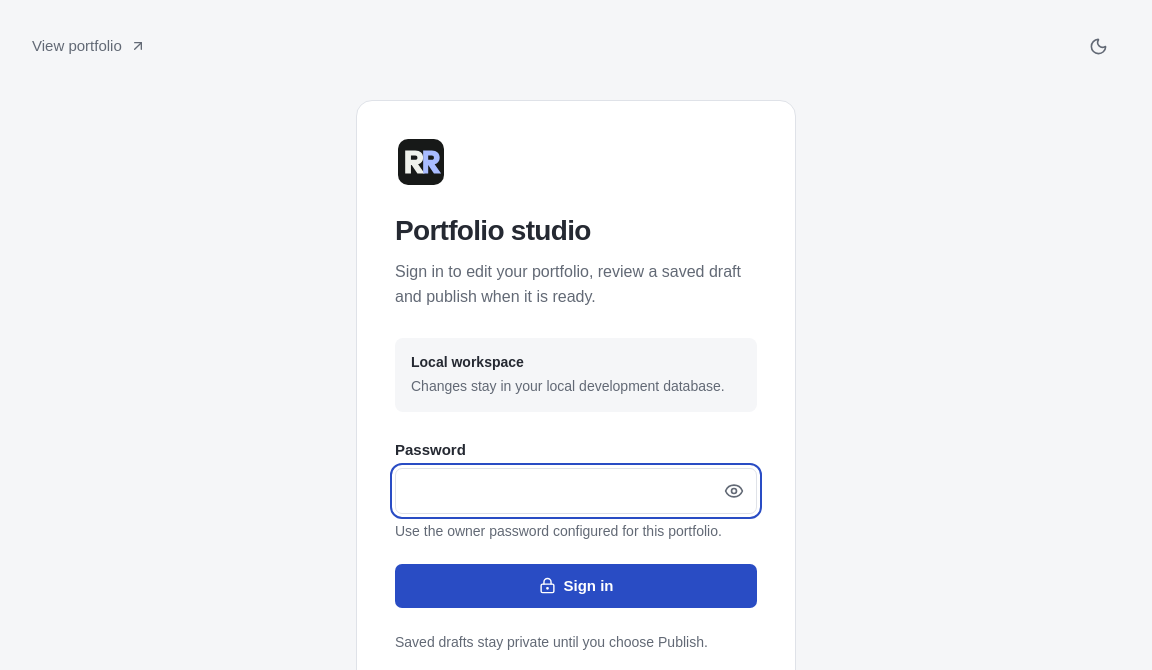
Test: server authenticated workspace › keeps an incorrect password on the sign-in form and opens the workspace only after server acceptance
Click the button named "Show password" at (734, 491), box [714,471,754,511]
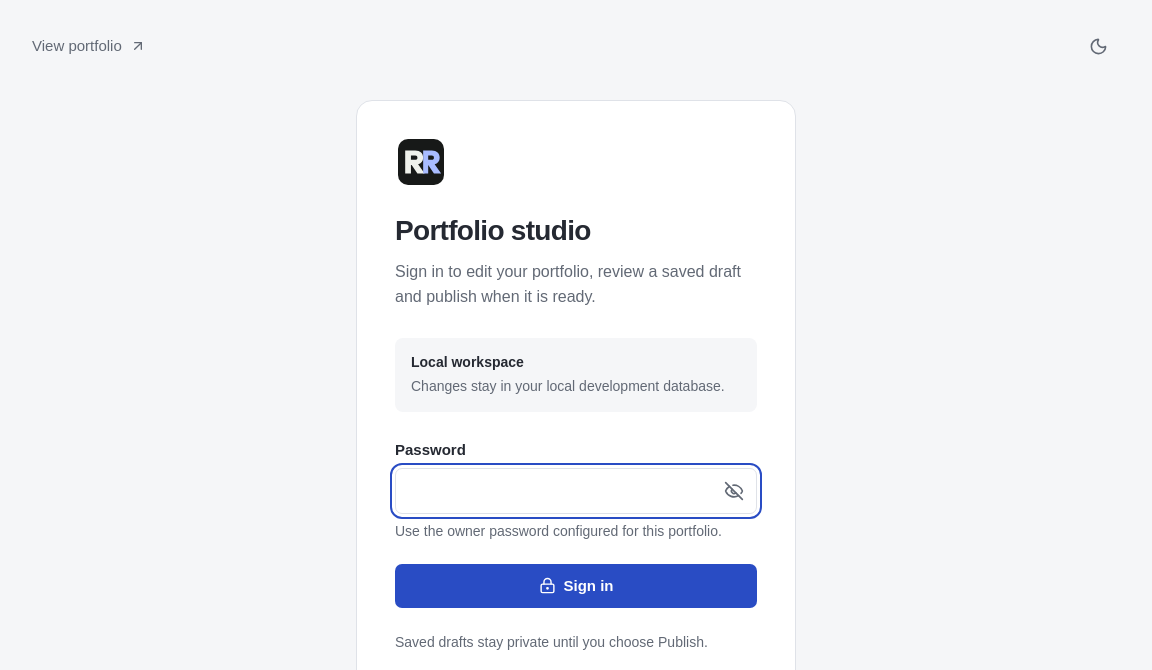
Type "any-eight-character-phrase" into the field labelled "Password" at (576, 491), box [395,468,757,514]
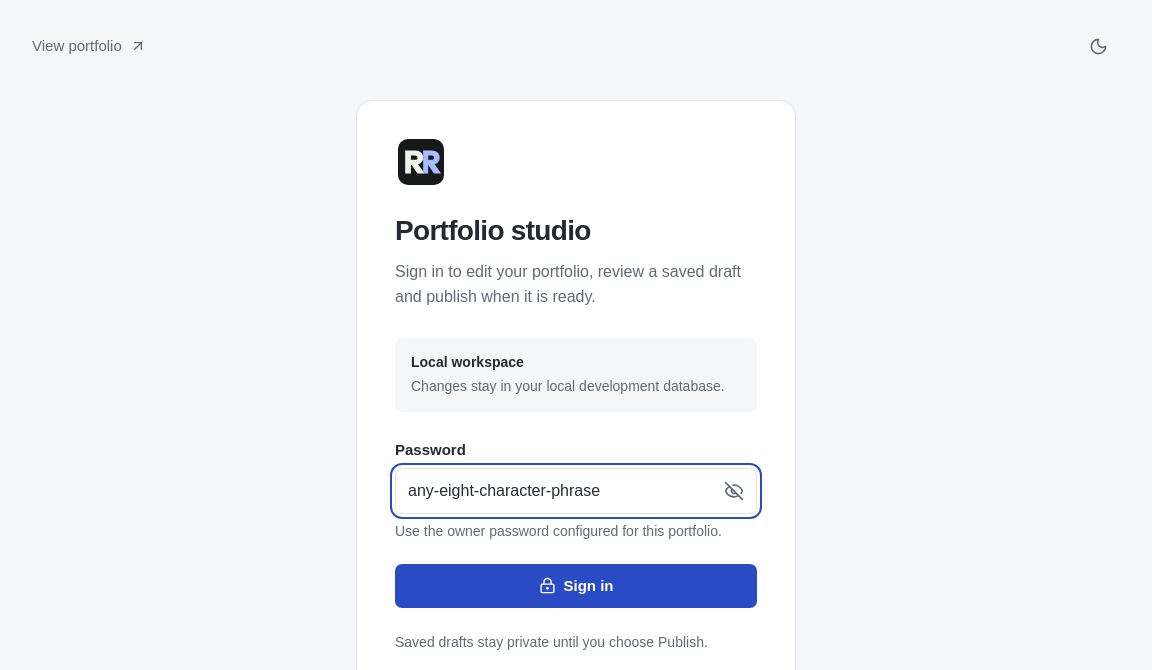
Click the button "Sign in" at (576, 586), box [395,564,757,608]
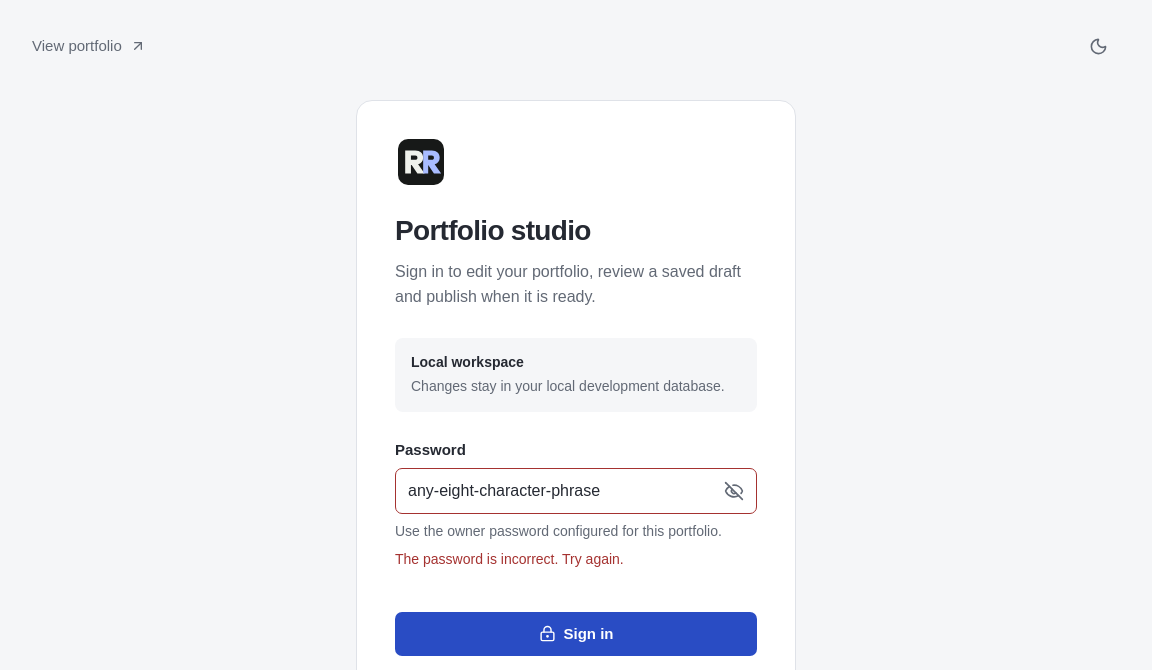
Expected: the message shows "password is incorrect", [395,550,624,566]
Replace the text in the field labelled "Password" with "correct-test-password" at (576, 491), box [395,468,757,514]
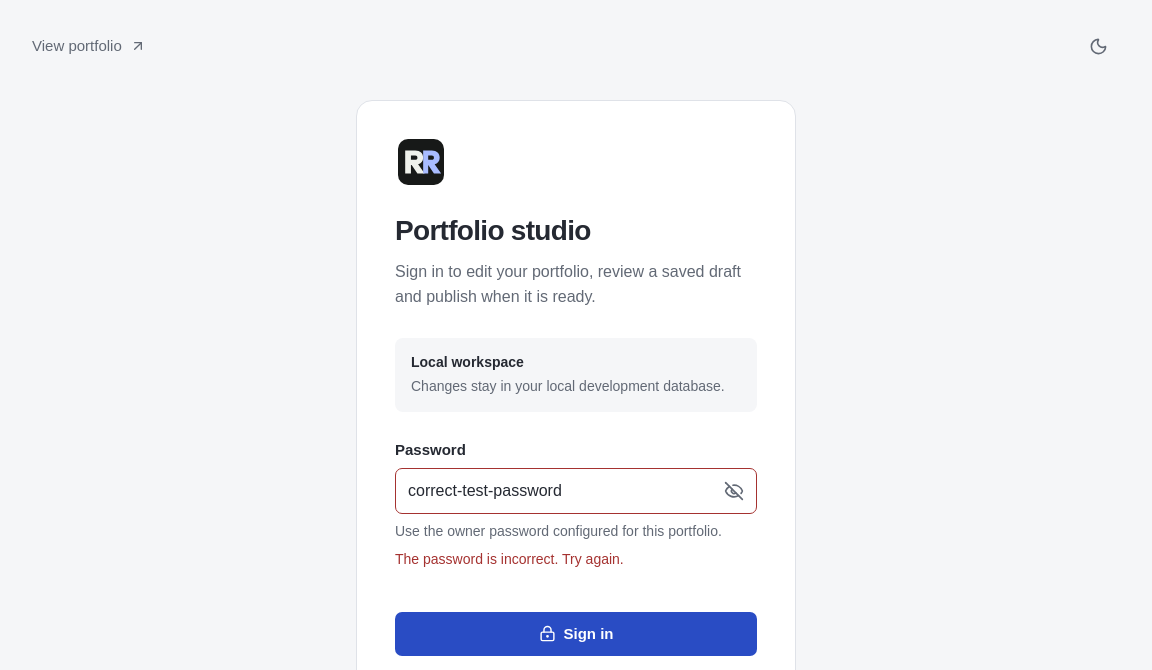
Click the button "Sign in" at (576, 634), box [395,612,757,656]
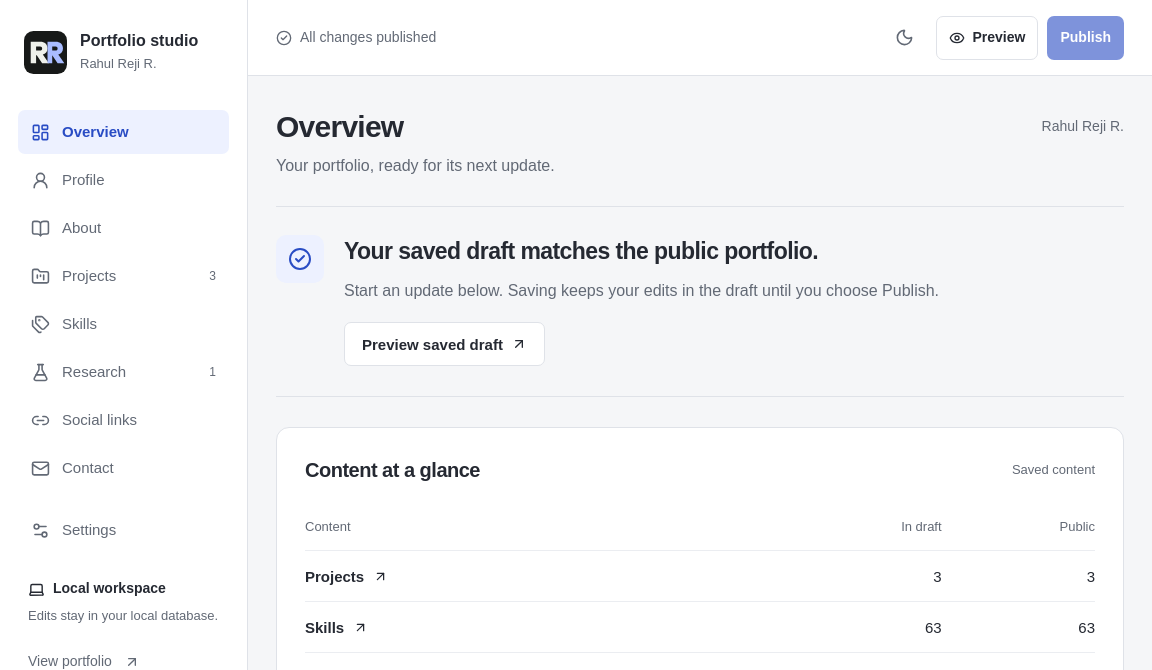
Expected: the navigation bar named "Workspace sections" is shown, [18,110,229,552]
